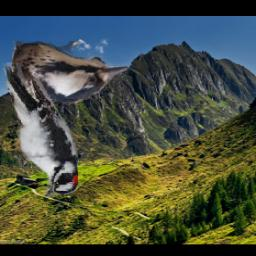Woodpecker: (3, 63, 79, 198), (13, 42, 129, 109)
